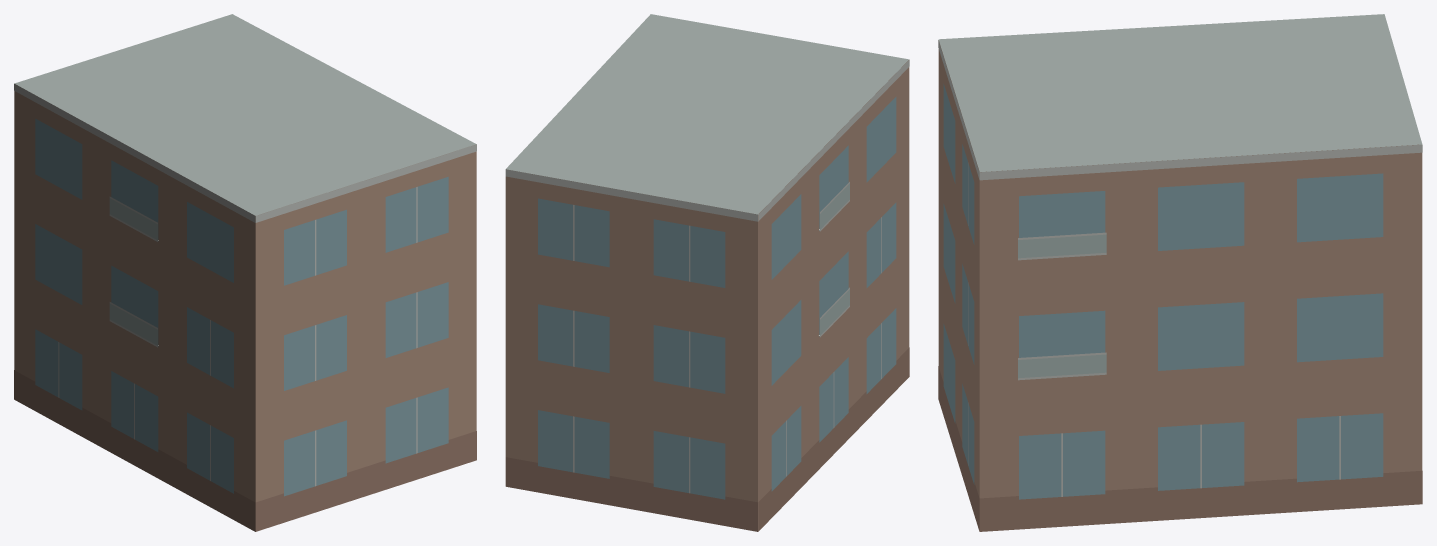
File: survey-upis-33010443.glb
3 renders of one model, left to right at view 1: azimuth 30°, elevation 25°; view 2: azimuth 150°, elevation 25°; view 3: azimuth 270°, elevation 25°, orthographic. The views are drawn at different scales.
Parts seen in each view (by area): view 1: survey-upis-33010443.tmp; view 2: survey-upis-33010443.tmp; view 3: survey-upis-33010443.tmp.
Part boxes in pixels (<box>): survey-upis-33010443.tmp: <box>14,14,476,531</box>; survey-upis-33010443.tmp: <box>505,14,909,531</box>; survey-upis-33010443.tmp: <box>938,14,1422,531</box>.
Bounding box in the file's own units: 10.1 × 10.7 × 13.06.
